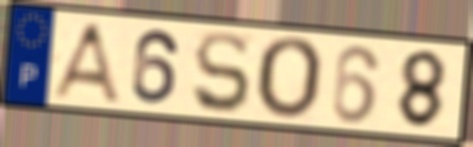6: (330, 41, 383, 126), (130, 27, 182, 108)
8: (394, 47, 452, 132)
A: (46, 19, 123, 105)
O: (254, 34, 327, 123)
S: (190, 28, 253, 116)
